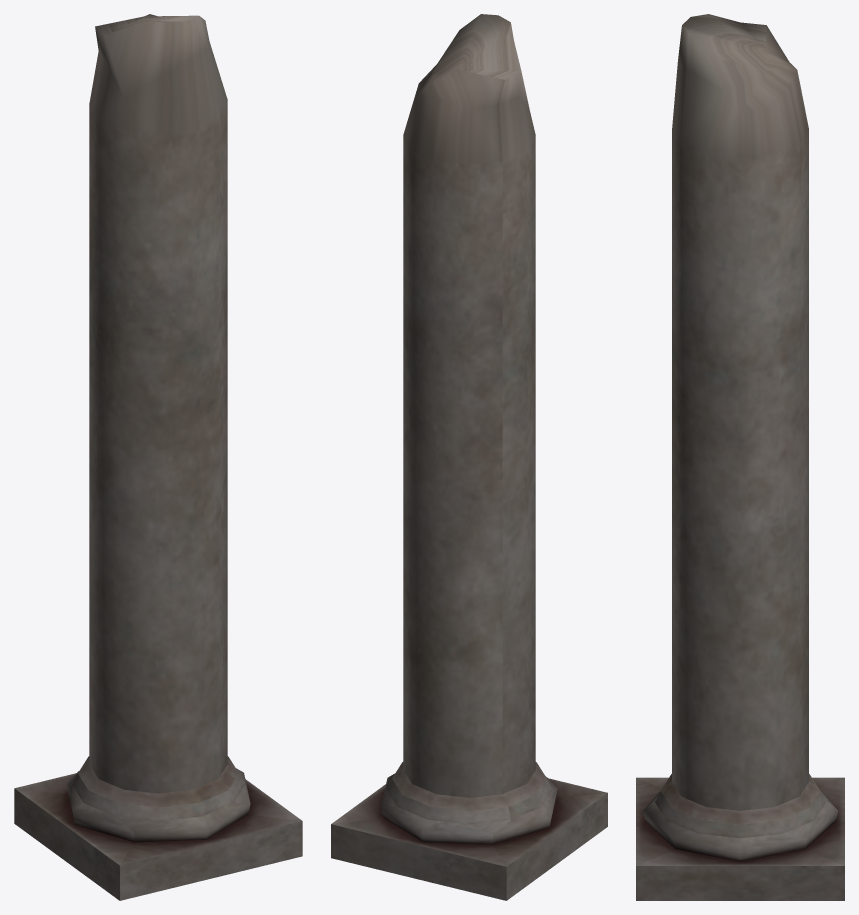
File: sb_obj_outdoor009_AncientTemple_pillar01B_col.fbx
3 renders of one model, left to right at view 1: azimuth 30°, elevation 25°; view 2: azimuth 150°, elevation 25°; view 3: azimuth 270°, elevation 25°, orthographic. The views are drawn at different scales.
Parts seen in each view (by area): view 1: sb_obj_outdoor009_AncientTemple_pillar01B_col; view 2: sb_obj_outdoor009_AncientTemple_pillar01B_col; view 3: sb_obj_outdoor009_AncientTemple_pillar01B_col.
Part boxes in pixels (x1=…): sb_obj_outdoor009_AncientTemple_pillar01B_col: x1=14, y1=14, x2=302, y2=900; sb_obj_outdoor009_AncientTemple_pillar01B_col: x1=331, y1=14, x2=607, y2=900; sb_obj_outdoor009_AncientTemple_pillar01B_col: x1=636, y1=14, x2=844, y2=900.
Bounding box in the file's own units: 1.62 × 7.12 × 1.62.
